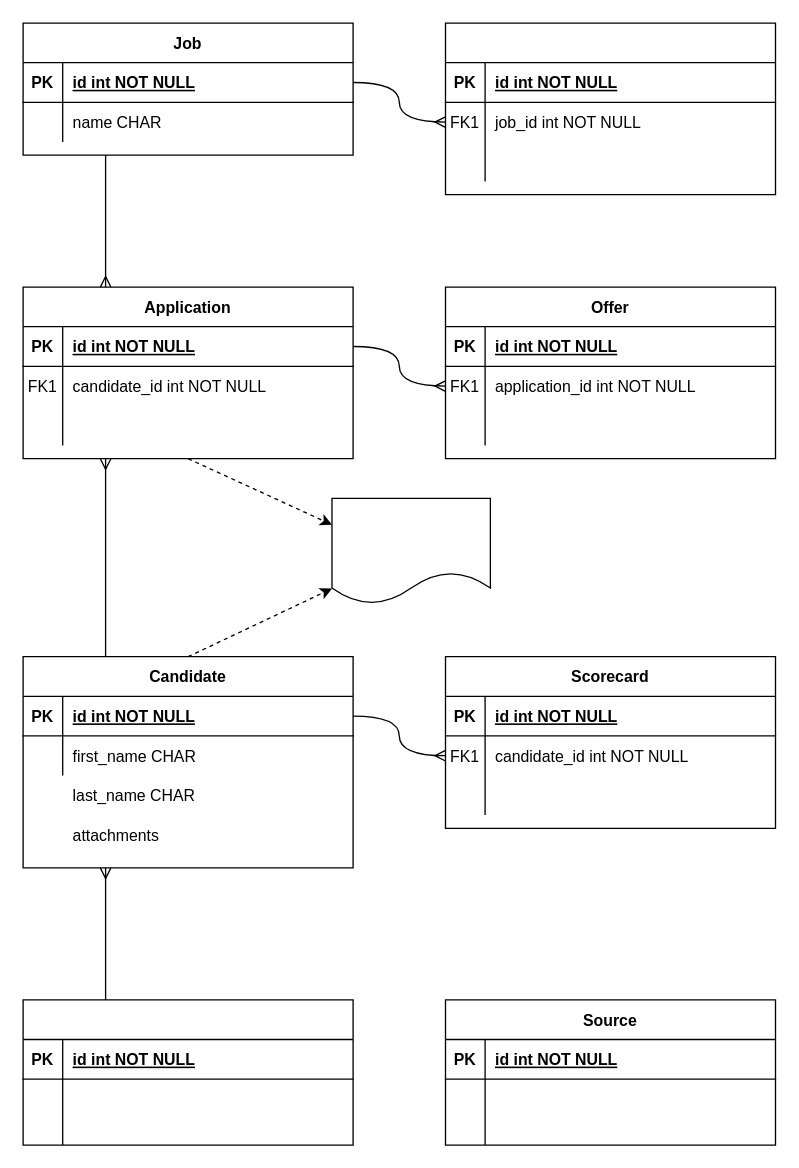
Image size: 799x1168. Some labels were removed from this diagram. Each missing label, with the box of its shape:
Attachment: (331, 497, 490, 604)
Job Post: (444, 22, 776, 195)
ProspectPool: (22, 999, 353, 1145)
